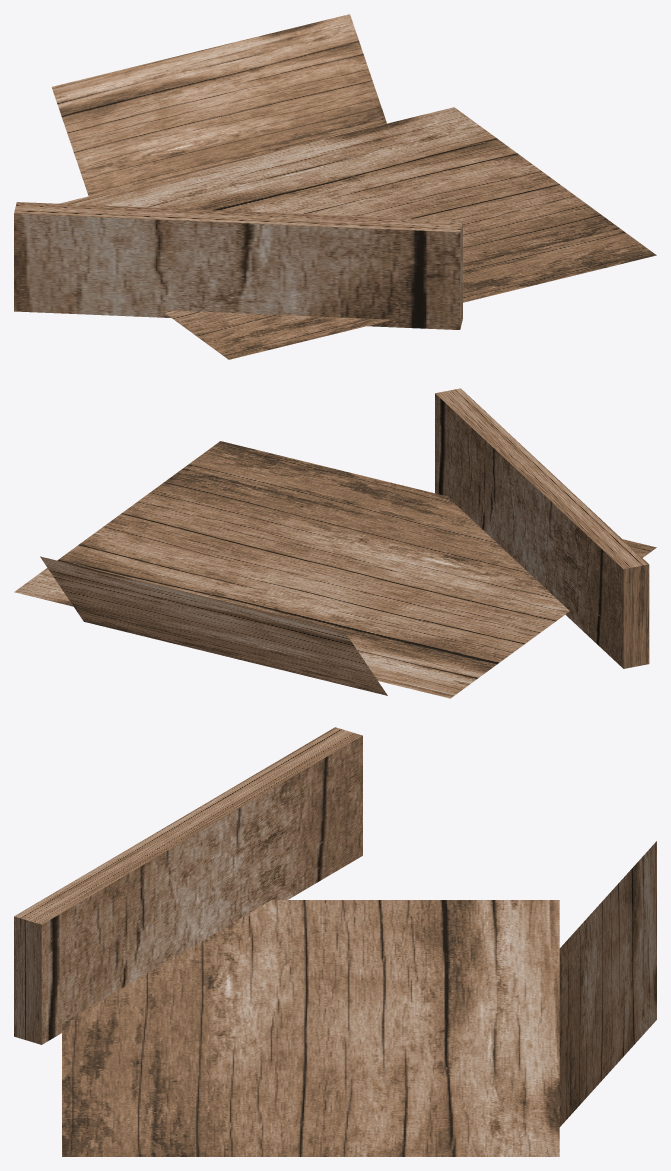
3 views of the same model, one above another, from view 1: azimuth 30°, elevation 25°; view 2: azimuth 150°, elevation 25°; view 3: azimuth 270°, elevation 25° (orthographic). The views are drawn at different scales.
Parts seen in each view (by area): view 1: wall, floor, wall.001; view 2: floor, wall, wall.001; view 3: floor, wall, wall.001.
Part boxes in pixels (<box>): wall: <box>14,202,462,329</box>; floor: <box>60,107,656,359</box>; wall.001: <box>51,14,386,196</box>; floor: <box>14,441,656,698</box>; wall: <box>435,388,649,668</box>; wall.001: <box>40,556,387,695</box>; floor: <box>62,900,559,1156</box>; wall: <box>14,727,362,1044</box>; wall.001: <box>559,841,656,1126</box>.
Bounding box in the file's own units: 30.02 × 5.72 × 25.58.
Materials: 1 (1 with a texture image).
